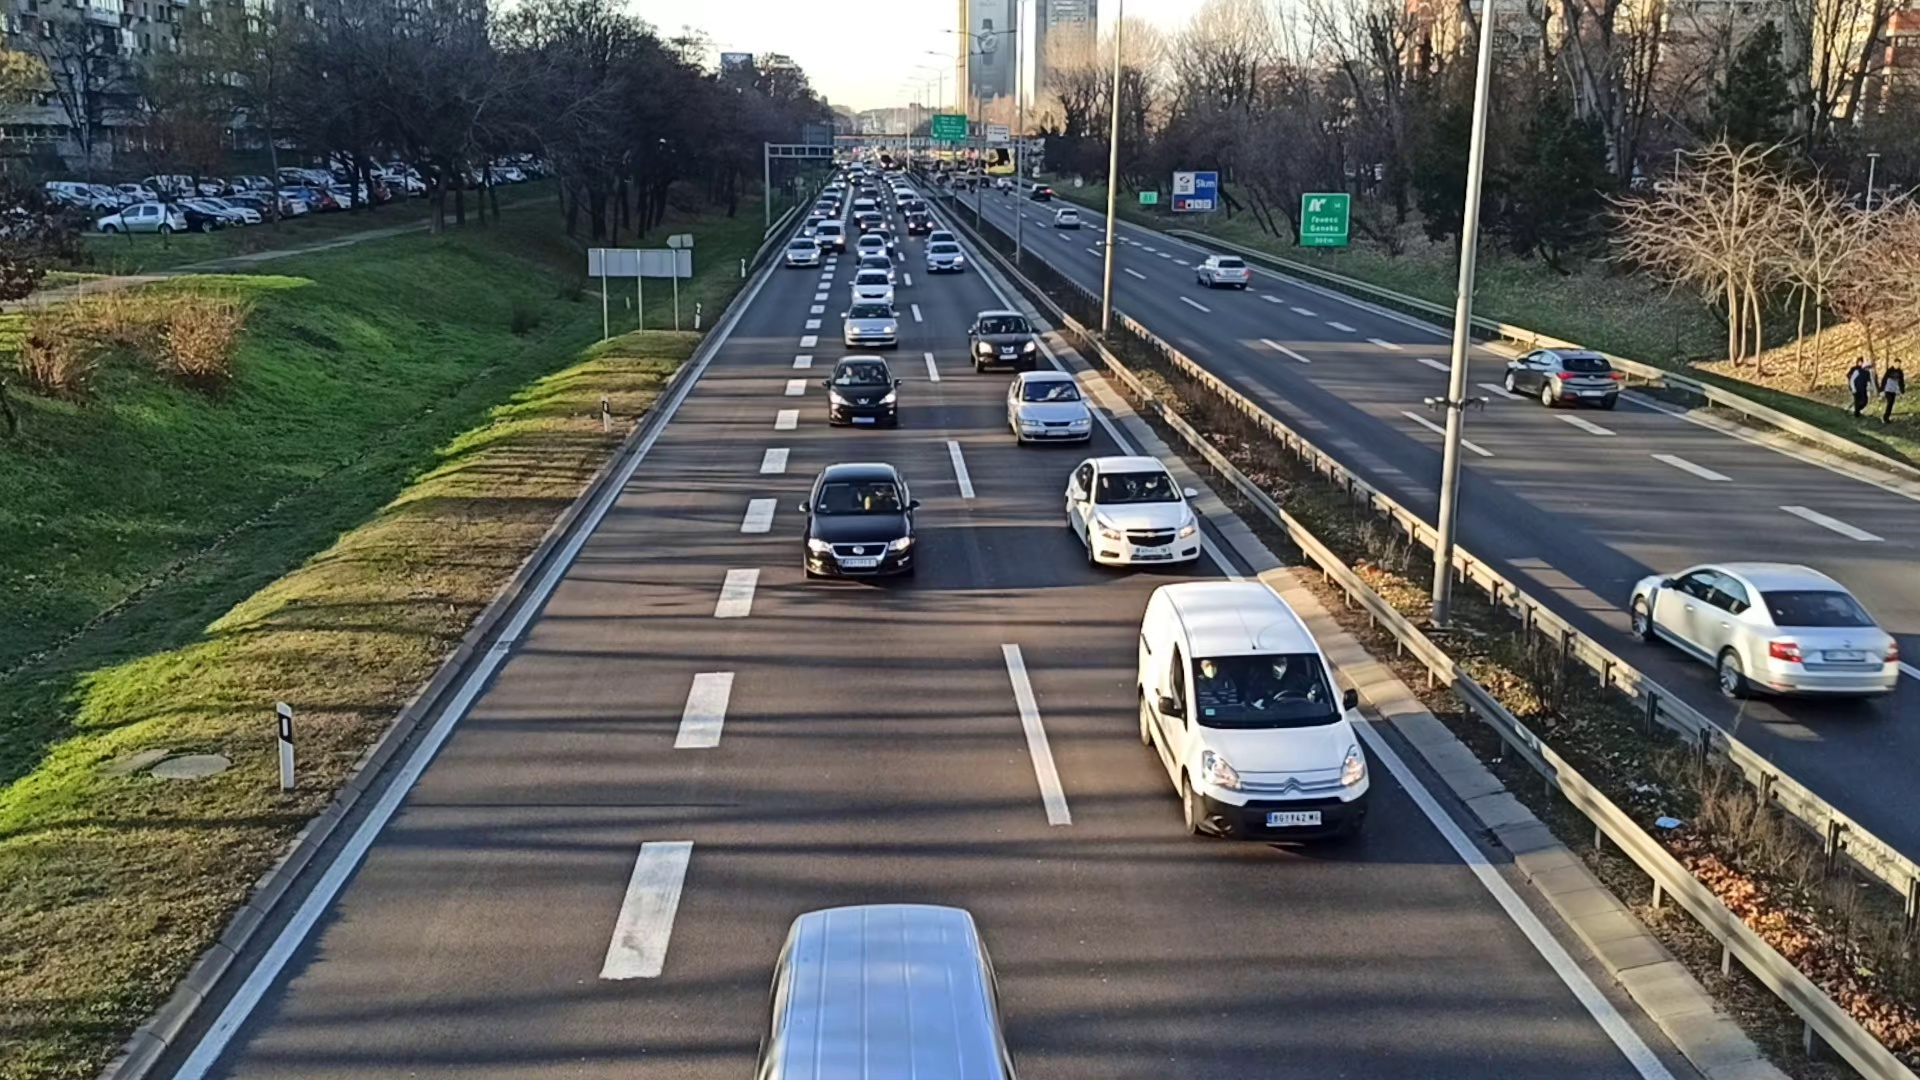car: (1630, 555, 1900, 713), (1064, 456, 1203, 567), (803, 463, 915, 587), (1505, 344, 1619, 409), (1002, 368, 1091, 444), (825, 355, 898, 426), (971, 309, 1035, 369), (844, 305, 899, 348), (1195, 255, 1250, 287), (851, 269, 895, 306), (924, 243, 965, 274), (855, 233, 887, 258), (787, 236, 815, 264)
van: (1134, 582, 1371, 847)
